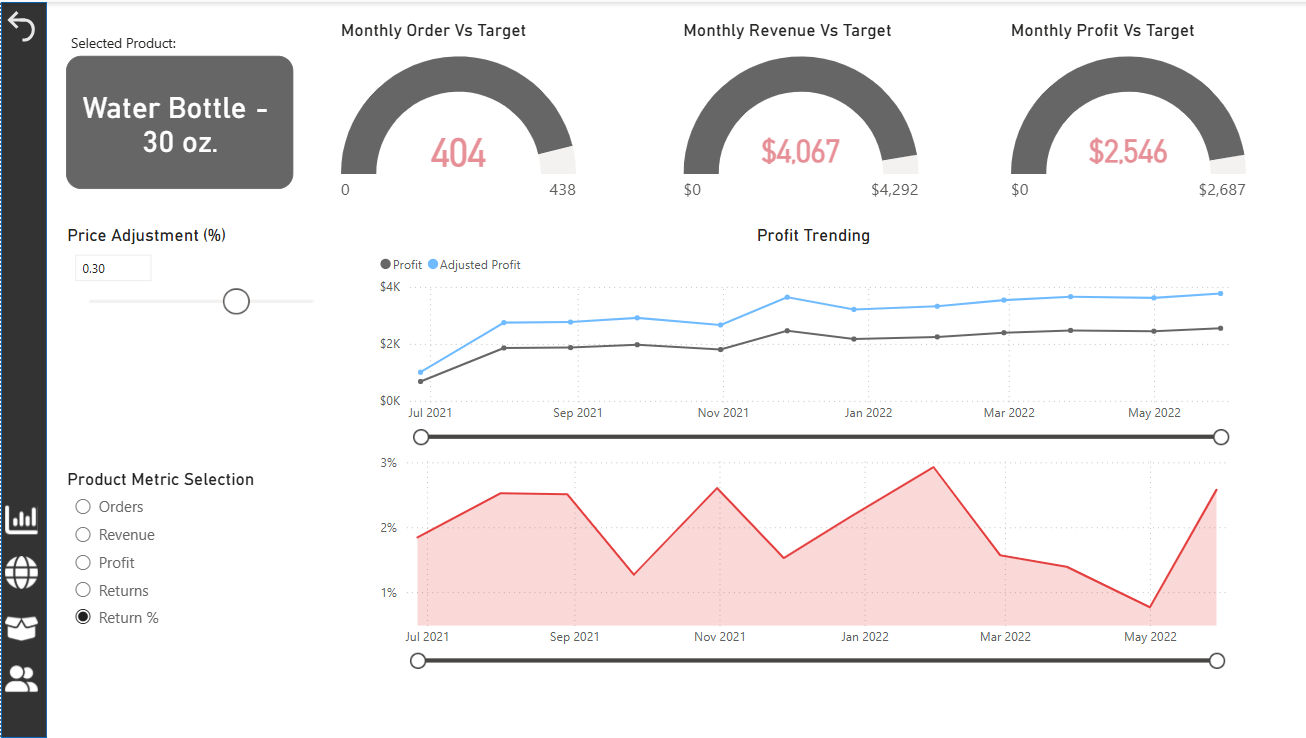

The dashboard page shown, as its layout file describes it:
{"tool":"powerbi","page":{"name":"Product Detail","canvas":[1280,720],"ordinal":2},"visuals":[{"type":"shape","box":[0,0,45,720],"z":0},{"type":"gauge","title":"Monthly Order Vs Target","fields":{"MaxValue":["Measure Table.Order Target"],"Y":["Measure Table.Total Orders"]},"box":[327.5,17.5,240,200],"z":1000},{"type":"gauge","title":"Monthly Revenue Vs Target","fields":{"MaxValue":["Measure Table.Revenue Target"],"Y":["Measure Table.Total Revenue"]},"box":[662.5,17.5,240,200],"z":2000},{"type":"gauge","title":"Monthly Profit Vs Target","fields":{"MaxValue":["Measure Table.Profit Target"],"Y":["Measure Table.Profit"]},"box":[983.8,17.5,240,200],"z":3000},{"type":"lineChart","title":"Profit Trending","fields":{"Category":["Calendar Lookup.Date Hierarchy.Start of Year","Calendar Lookup.Date Hierarchy.Start of Month","Calendar Lookup.Date Hierarchy.Start of Week","Calendar Lookup.Date Hierarchy.Date"],"Y":["Measure Table.Profit","Measure Table.Adjusted Profit"]},"box":[365.3,217.3,858.7,218.7],"z":4000},{"type":"areaChart","title":"Returns Trending","fields":{"Category":["Calendar Lookup.Date Hierarchy.Start of Year","Calendar Lookup.Date Hierarchy.Start of Month","Calendar Lookup.Date Hierarchy.Start of Week","Calendar Lookup.Date Hierarchy.Date"],"Y":["Measure Table.Return Rate"]},"box":[365.3,436,854.7,218.7],"z":5000},{"type":"textbox","box":[63.8,26.2,136.2,35],"z":6000},{"type":"card","fields":{"Values":["Min(Product Lookup.ProductName)"]},"box":[63.8,52.5,222.5,130],"z":7000},{"type":"actionButton","box":[0,486.2,45,40],"z":8000},{"type":"actionButton","box":[0,537.5,45,40],"z":9000},{"type":"actionButton","box":[0,592.5,45,40],"z":10000},{"type":"actionButton","box":[0,642.5,45,40],"z":11000},{"type":"actionButton","box":[0,3.8,45,40],"z":12000},{"type":"slicer","title":"Price Adjustment (%)","fields":{"Values":["Price Adjustment (%).Price Adjustment (%)"]},"box":[60,217.3,268,109.3],"z":13000},{"type":"slicer","title":"Product Metric Selection","fields":{"Values":["Product Metric Selection.Product Metric Selection"]},"box":[60,456,300,176],"z":14000}]}

Visuals, with their boxes on the page's 1280x720 design canvas (x1, y1, x2, y2). These are canvas units, not pixel positions in the 1306x738 screenshot, which may show the page scaled, cropped or inside an application window:
shape: BBox(0, 0, 45, 720)
"Monthly Order Vs Target" gauge: BBox(328, 18, 568, 218)
"Monthly Revenue Vs Target" gauge: BBox(662, 18, 902, 218)
"Monthly Profit Vs Target" gauge: BBox(984, 18, 1224, 218)
"Profit Trending" lineChart: BBox(365, 217, 1224, 436)
"Returns Trending" areaChart: BBox(365, 436, 1220, 655)
textbox: BBox(64, 26, 200, 61)
card - Min(Product Lookup.ProductName): BBox(64, 52, 286, 182)
actionButton: BBox(0, 486, 45, 526)
actionButton: BBox(0, 538, 45, 578)
actionButton: BBox(0, 592, 45, 632)
actionButton: BBox(0, 642, 45, 682)
actionButton: BBox(0, 4, 45, 44)
"Price Adjustment (%)" slicer: BBox(60, 217, 328, 327)
"Product Metric Selection" slicer: BBox(60, 456, 360, 632)
